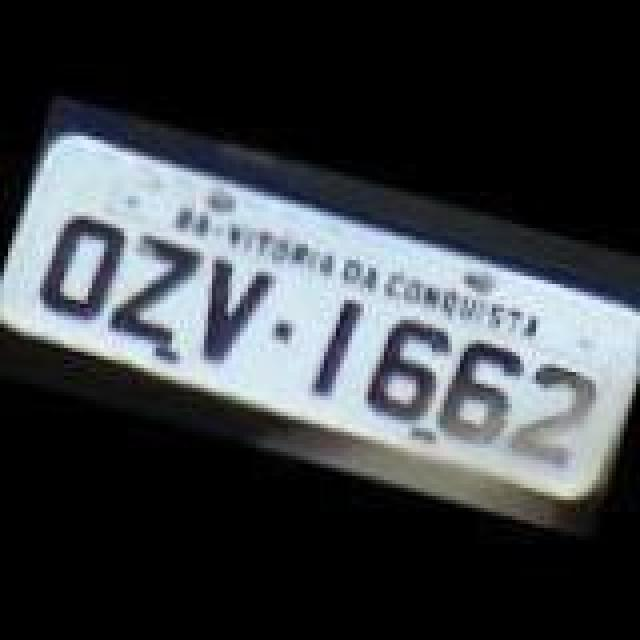1: (300, 292, 372, 408)
2: (496, 356, 604, 476)
6: (354, 310, 462, 434), (424, 330, 532, 454)
O: (26, 204, 134, 332)
V: (178, 250, 278, 374)
Z: (100, 232, 204, 356)
